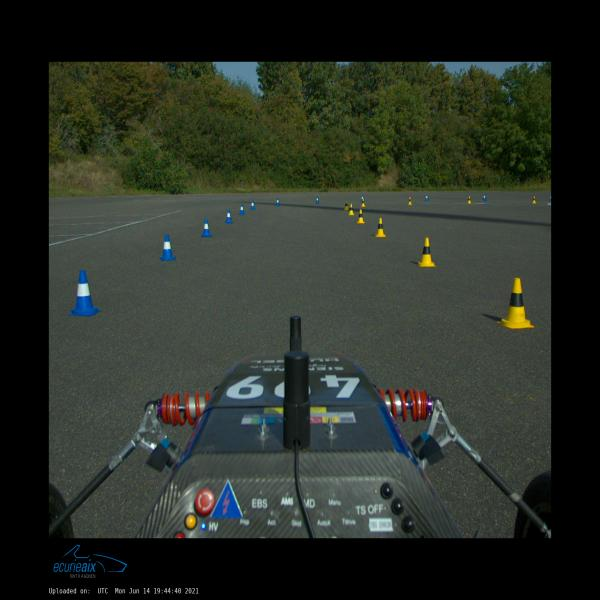blue_cone: (68, 270, 101, 316), (160, 234, 175, 261), (202, 218, 212, 237), (225, 209, 233, 223), (239, 204, 245, 214), (250, 200, 255, 210), (316, 196, 320, 204), (276, 198, 280, 206), (424, 194, 428, 200), (483, 194, 486, 201), (361, 195, 363, 202)
yellow_cone: (497, 278, 534, 329), (417, 238, 436, 266), (375, 218, 387, 238), (356, 210, 365, 224), (348, 204, 355, 215), (344, 200, 348, 211), (361, 199, 366, 207), (532, 196, 536, 204), (408, 197, 412, 205), (468, 196, 471, 204)
